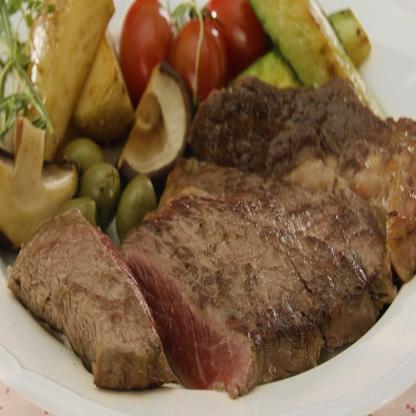Carne: (114, 163, 415, 400), (190, 95, 415, 266), (1, 207, 170, 387)
